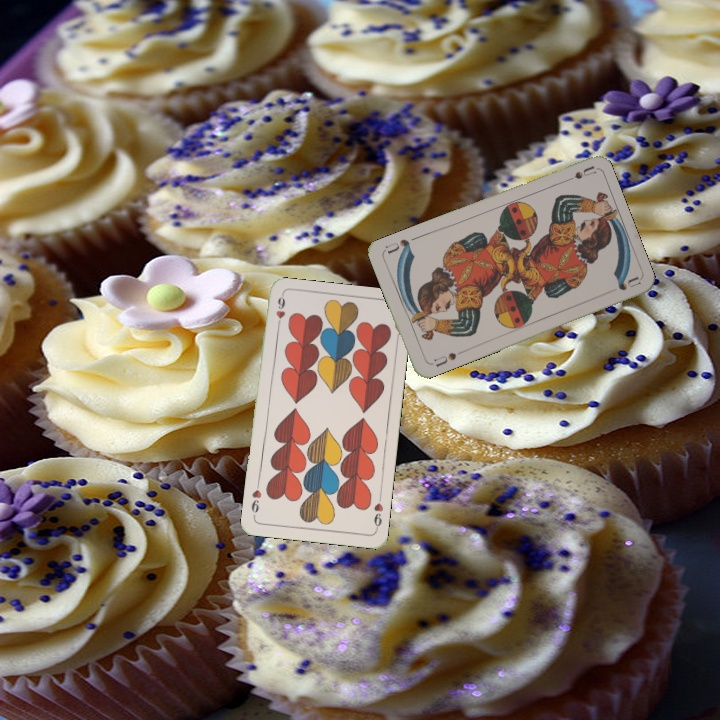H9: (370, 492, 386, 533), (272, 292, 287, 332)
SU: (557, 162, 597, 186), (426, 348, 459, 370)
